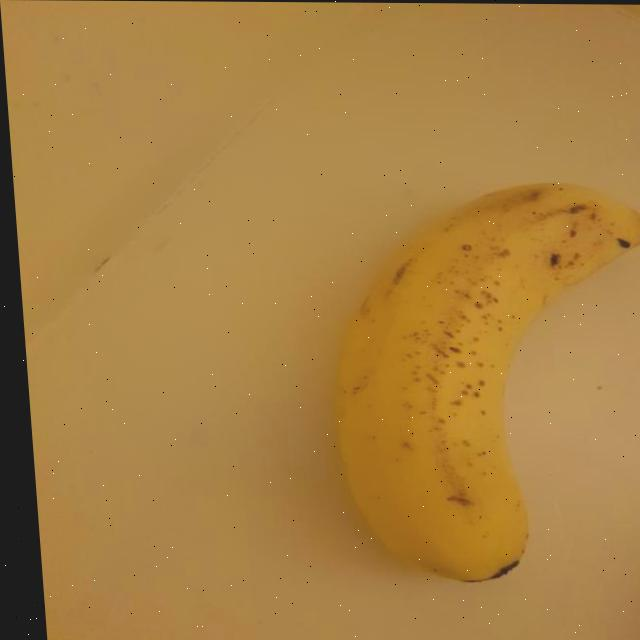banana: (298, 167, 640, 592)
